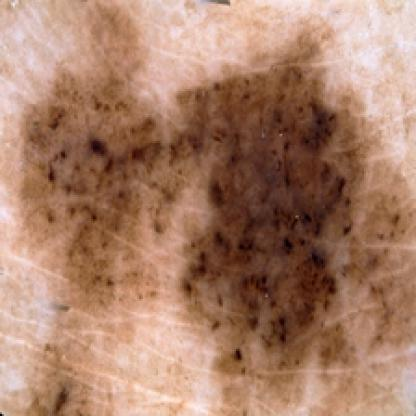malignant: (24, 58, 390, 347)
